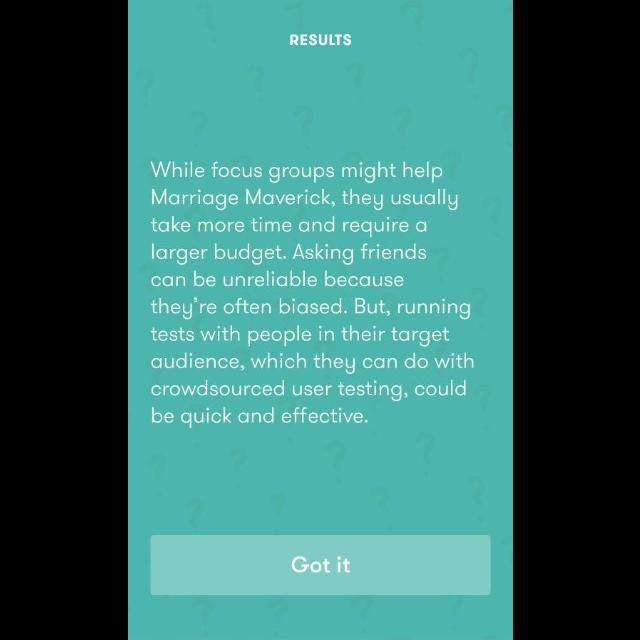text: (150, 160, 474, 430), (288, 34, 352, 46)
textbutton: (150, 534, 490, 596)
